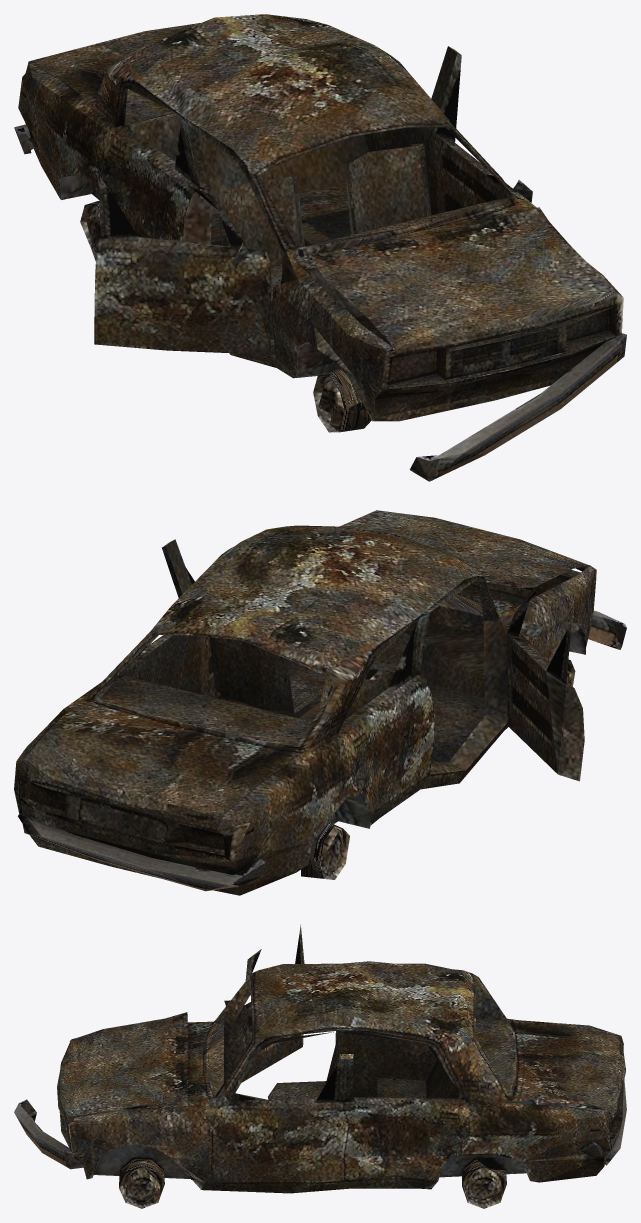
Rendered from RWGVD94GHVT2WL1PH5Q9Q50LR.fbx.
The picture shows the model from 3 angles, top to bottom: view 1: azimuth 30°, elevation 25°; view 2: azimuth 150°, elevation 25°; view 3: azimuth 270°, elevation 25°; orthographic projection. The views are drawn at different scales.
Parts seen in each view (by area): view 1: Object_car_scrap_d.jpg; view 2: Object_car_scrap_d.jpg; view 3: Object_car_scrap_d.jpg.
Part boxes in pixels (x1,y1,x2,y2): Object_car_scrap_d.jpg: (14, 14, 626, 481); Object_car_scrap_d.jpg: (14, 510, 626, 895); Object_car_scrap_d.jpg: (14, 924, 626, 1208).
Size of the model in its own units: 1.38 by 0.7951 by 2.5.
1 material, 1 textured.
